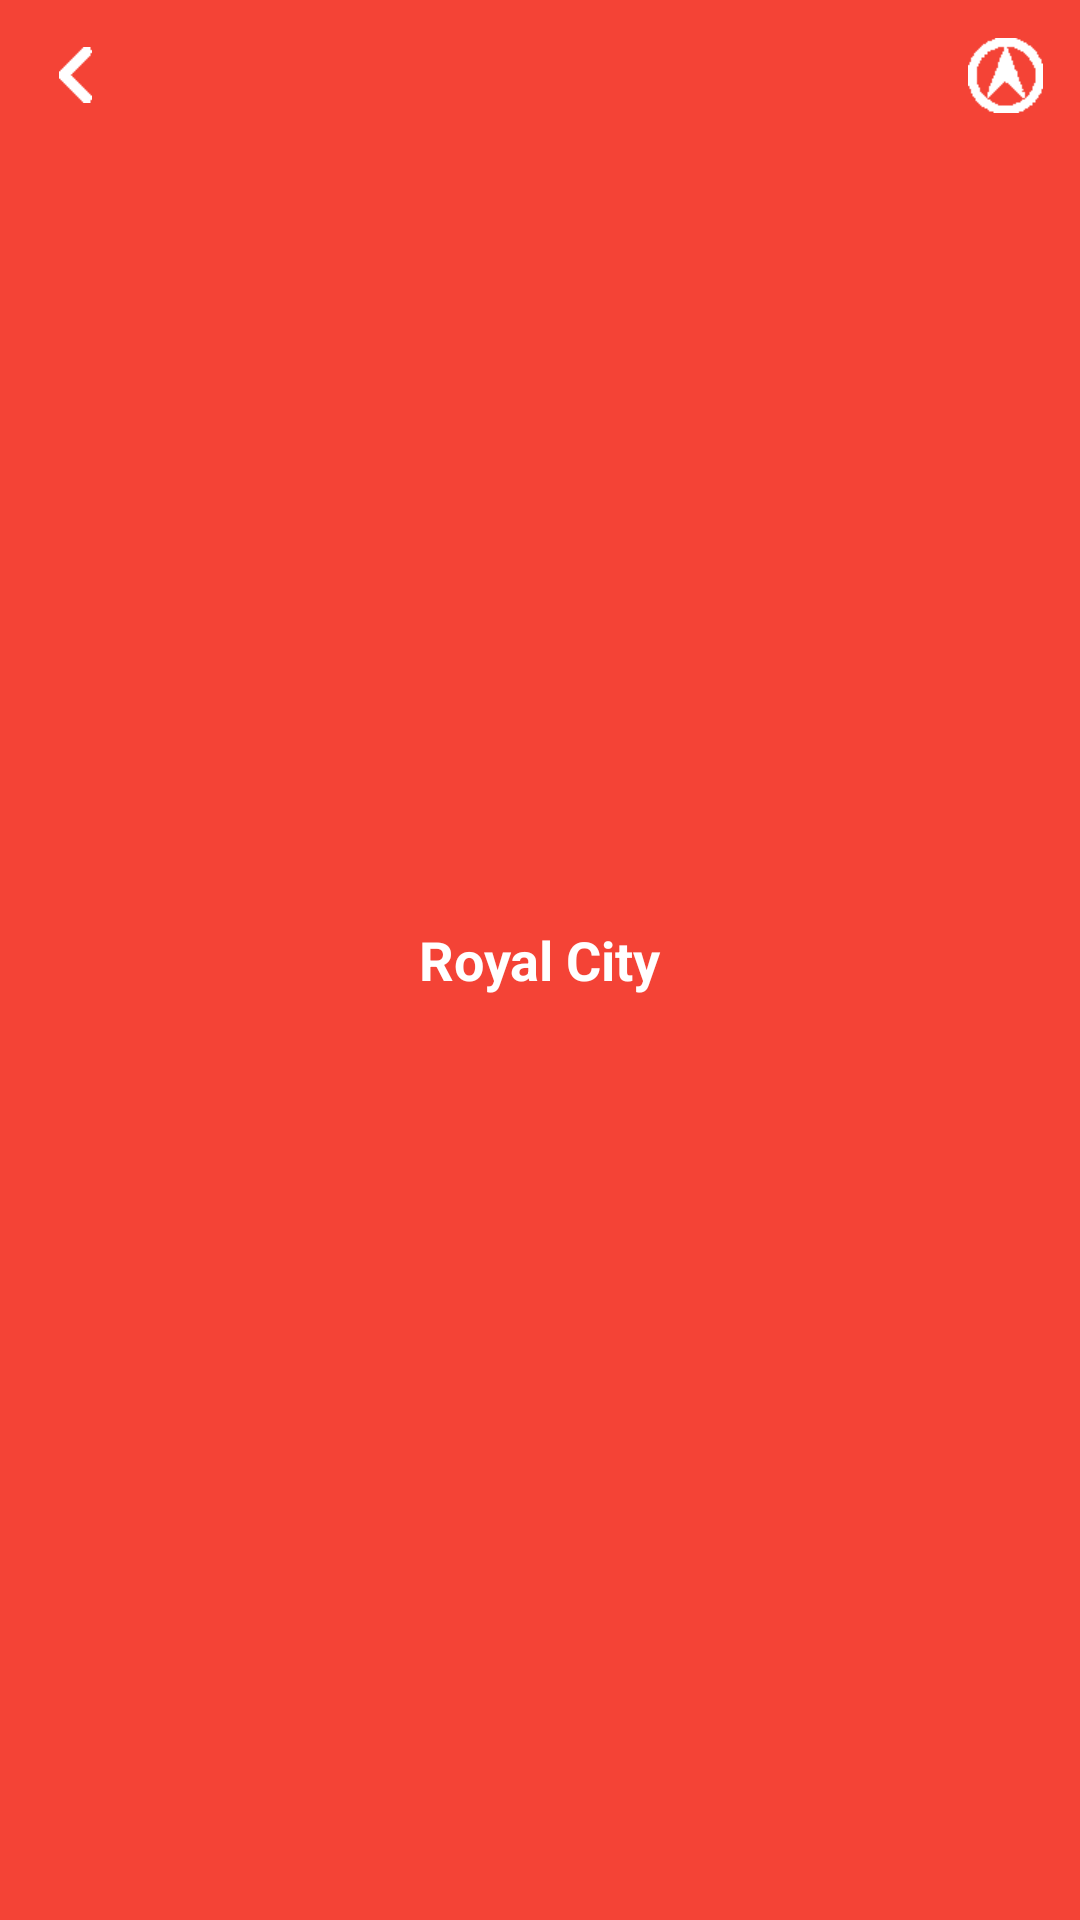

Icon click points for this 1080×1920 phone screenshot, format [x,y]:
back: [75,75]
route: [1005,75]
